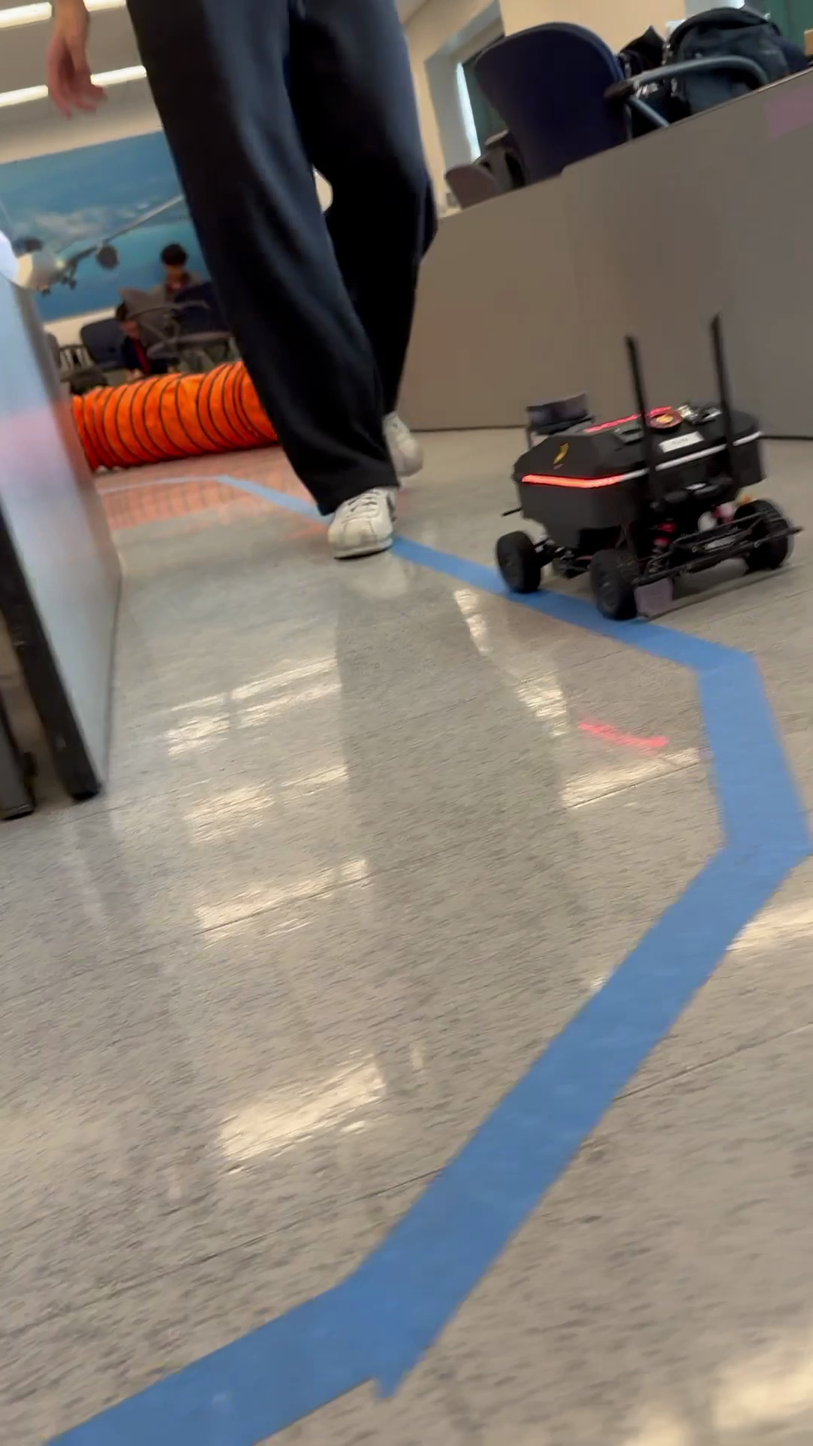racecar: (494, 316, 800, 622)
